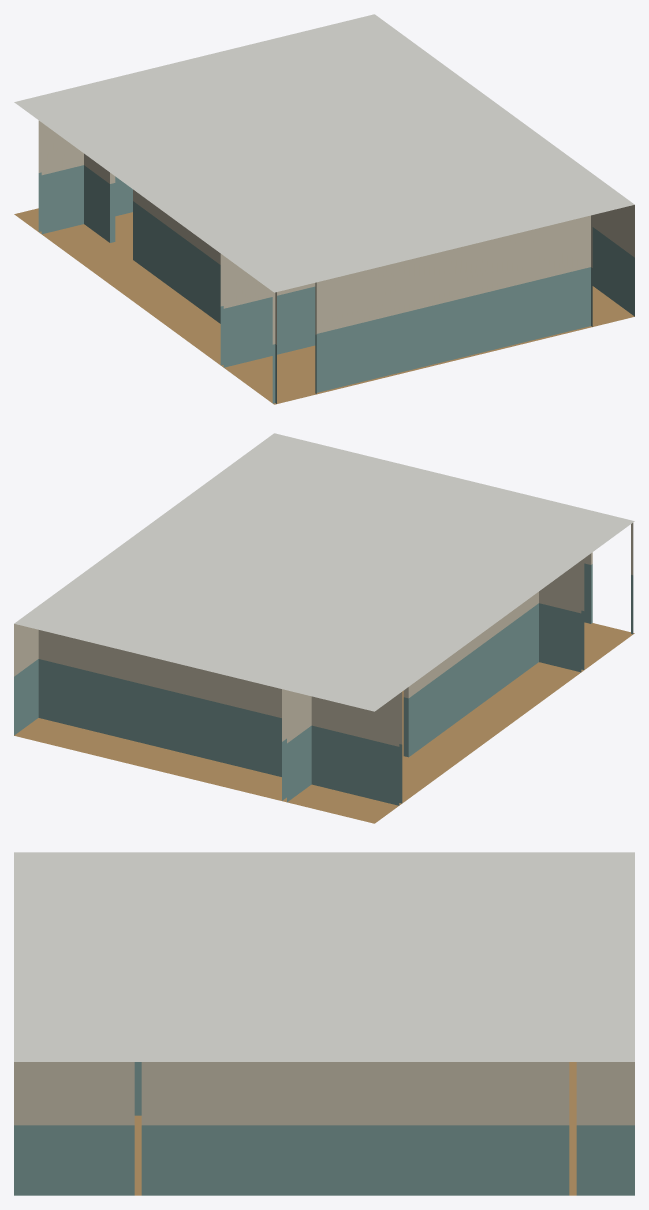
Rendered from chunk_4_3.glb.
The picture shows the model from 3 angles, top to bottom: view 1: azimuth 30°, elevation 25°; view 2: azimuth 150°, elevation 25°; view 3: azimuth 270°, elevation 25°; orthographic projection. The views are drawn at different scales.
Parts seen in each view (by area): view 1: chunk_4_3; view 2: chunk_4_3; view 3: chunk_4_3.
Part boxes in pixels (x1,y1,x2,y2): chunk_4_3: [14, 14, 634, 404]; chunk_4_3: [14, 433, 634, 823]; chunk_4_3: [14, 852, 634, 1195].
Bounding box in the file's own units: 9.6 × 2.85 × 12.
